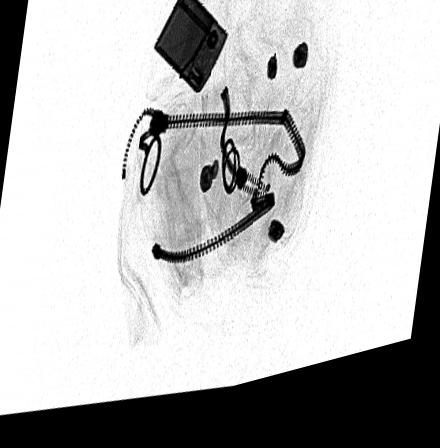Lighter: (152, 0, 227, 105)
